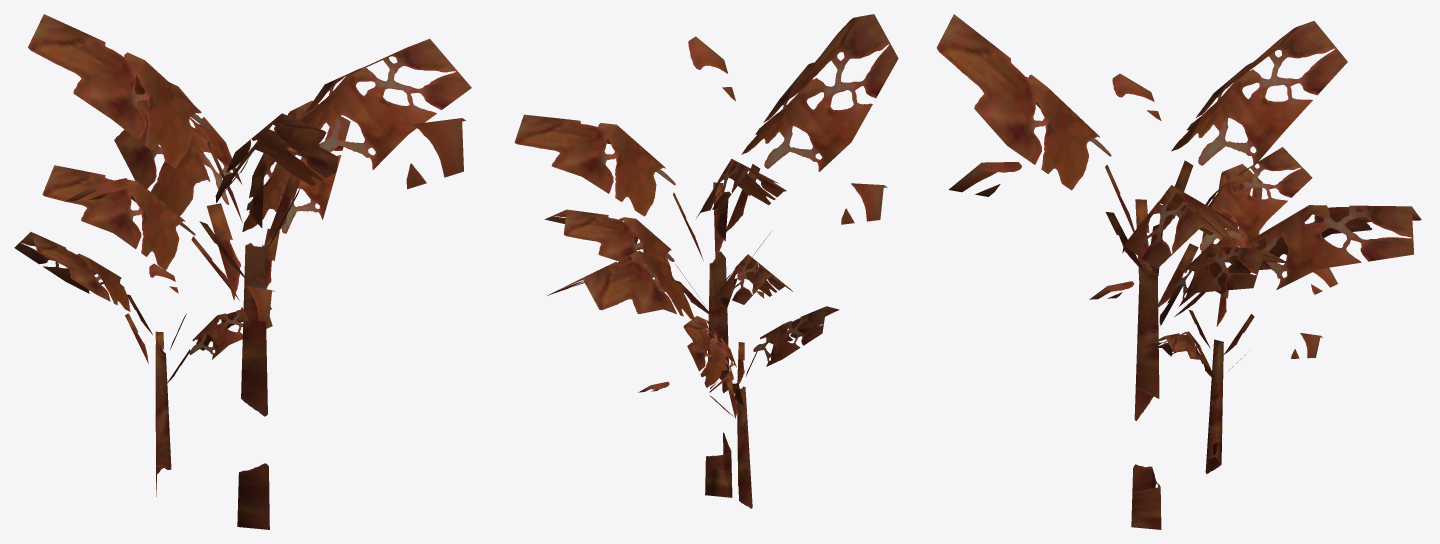
The model's file is City_bujian_38.fbx.
3 renders of one model, left to right at view 1: azimuth 30°, elevation 25°; view 2: azimuth 150°, elevation 25°; view 3: azimuth 270°, elevation 25°, orthographic. The views are drawn at different scales.
Parts seen in each view (by area): view 1: pasted__Mesh_0373; view 2: pasted__Mesh_0373; view 3: pasted__Mesh_0373.
Part boxes in pixels (x1=…): pasted__Mesh_0373: x1=14, y1=14, x2=471, y2=529; pasted__Mesh_0373: x1=514, y1=14, x2=898, y2=508; pasted__Mesh_0373: x1=936, y1=14, x2=1421, y2=529.
Bounding box in the file's own units: 2.74 × 3.23 × 3.05.
